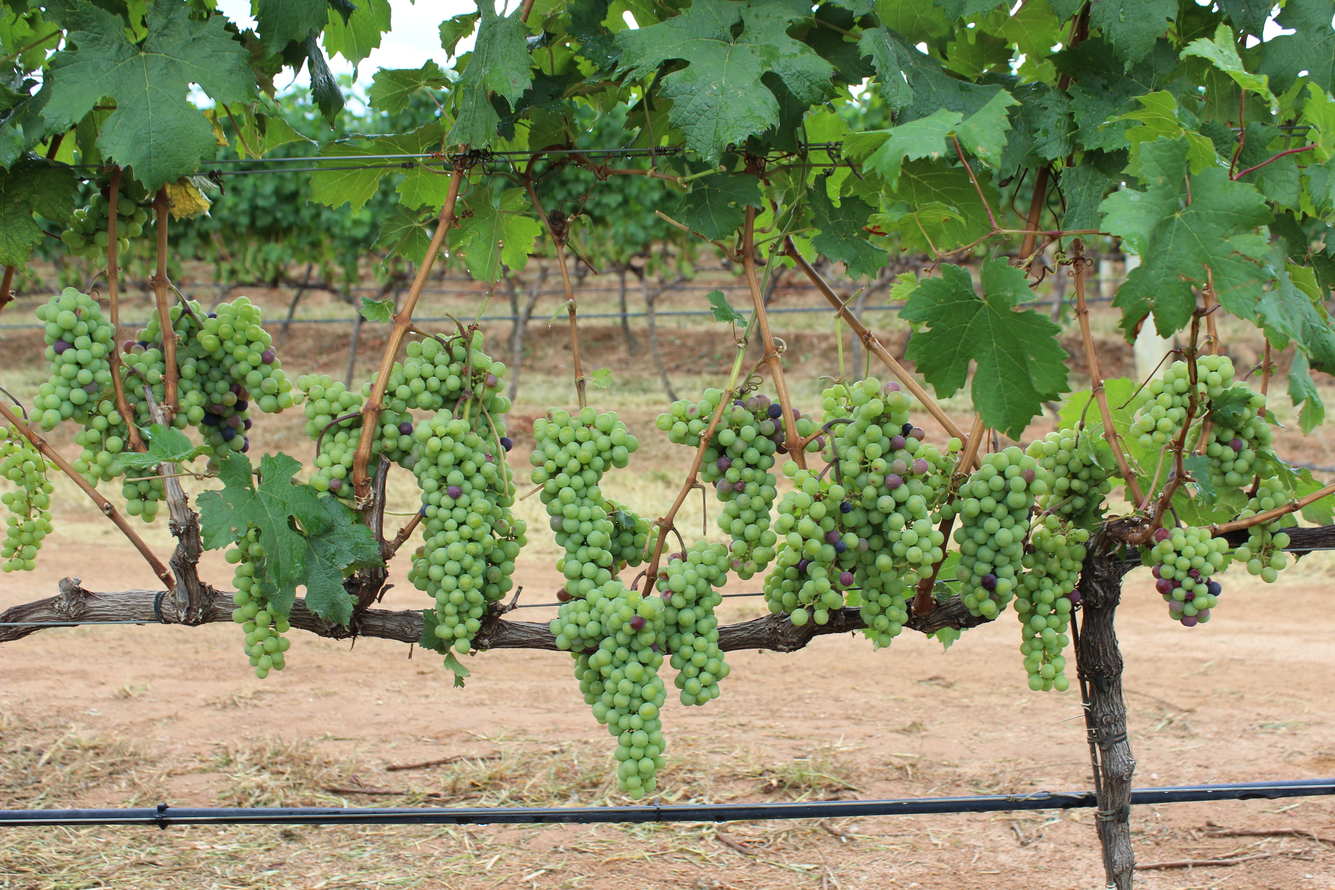leaf: (42, 0, 255, 191), (615, 0, 833, 163), (1101, 138, 1272, 335), (900, 259, 1068, 437), (198, 451, 333, 615), (449, 0, 533, 148), (304, 495, 383, 626), (1257, 247, 1335, 372), (450, 187, 543, 283), (1181, 23, 1277, 111), (0, 158, 78, 266), (809, 177, 887, 279), (1256, 0, 1335, 93), (1089, 0, 1177, 68), (674, 174, 762, 240), (323, 0, 390, 66), (117, 424, 213, 469), (369, 60, 449, 113), (253, 0, 331, 54), (1288, 351, 1324, 434), (439, 12, 480, 57), (706, 289, 746, 324), (359, 296, 396, 323), (589, 367, 612, 388), (358, 0, 365, 3), (174, 3, 181, 5), (266, 552, 267, 565), (322, 10, 323, 21), (44, 89, 45, 91), (693, 165, 694, 166)
